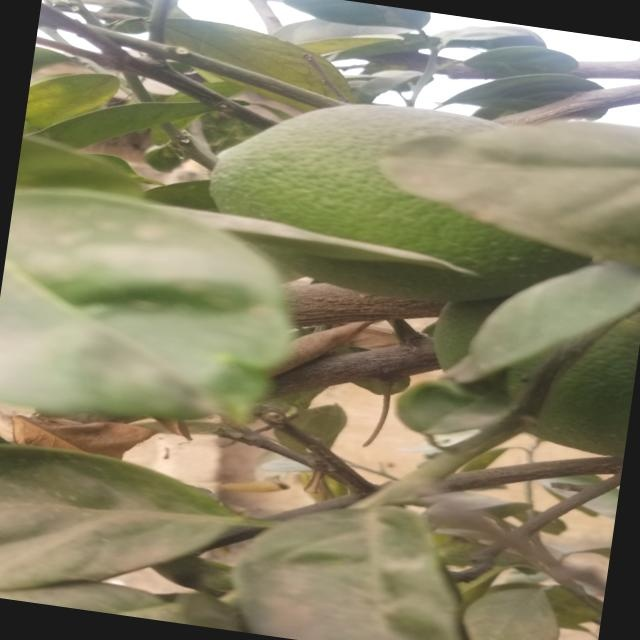agrume: (223, 98, 585, 310), (413, 255, 640, 461)
